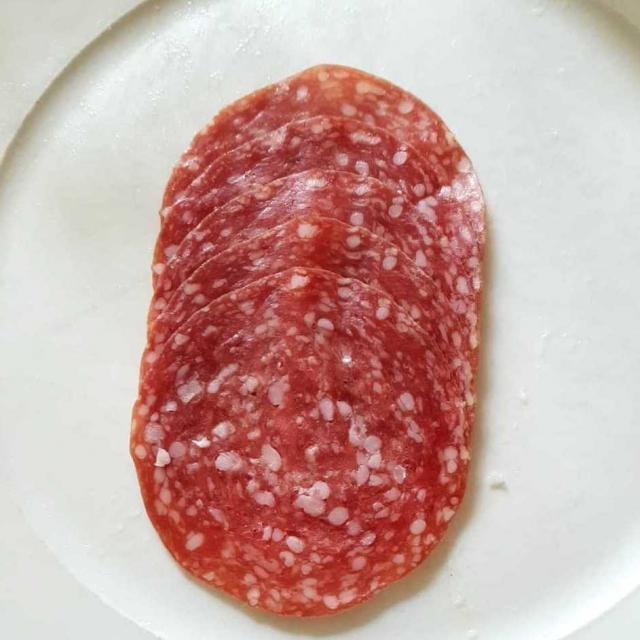salami: (138, 74, 482, 597)
